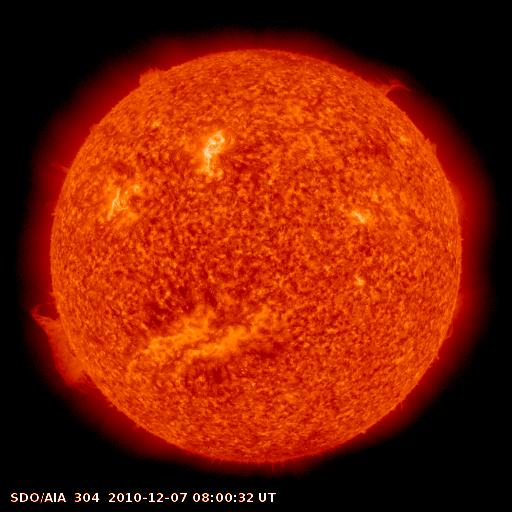prominence: (18, 290, 99, 396), (35, 148, 80, 222), (361, 58, 419, 108), (128, 53, 181, 99)
